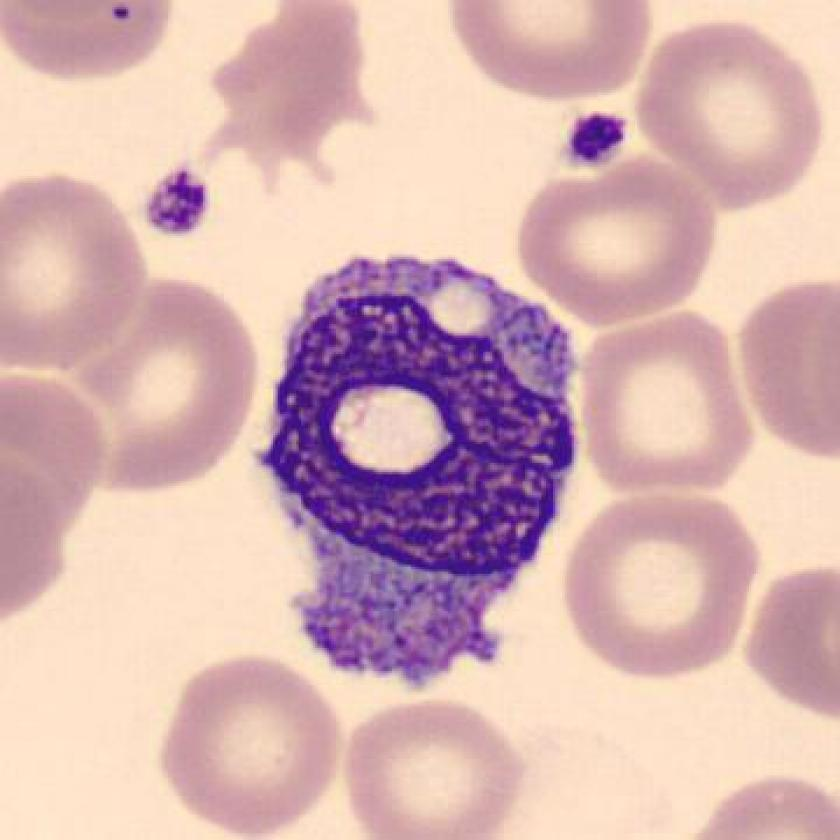monocyte: (237, 230, 603, 705)
